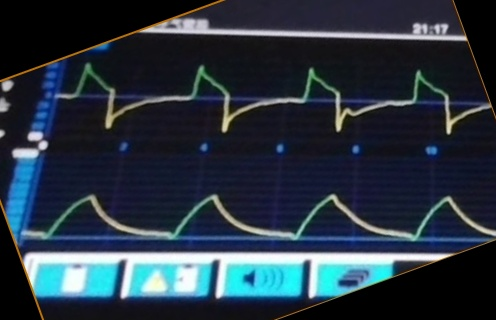Premature_cycling Flow: (63, 58, 474, 137)
Premature_cycling Volume: (38, 175, 477, 247)
